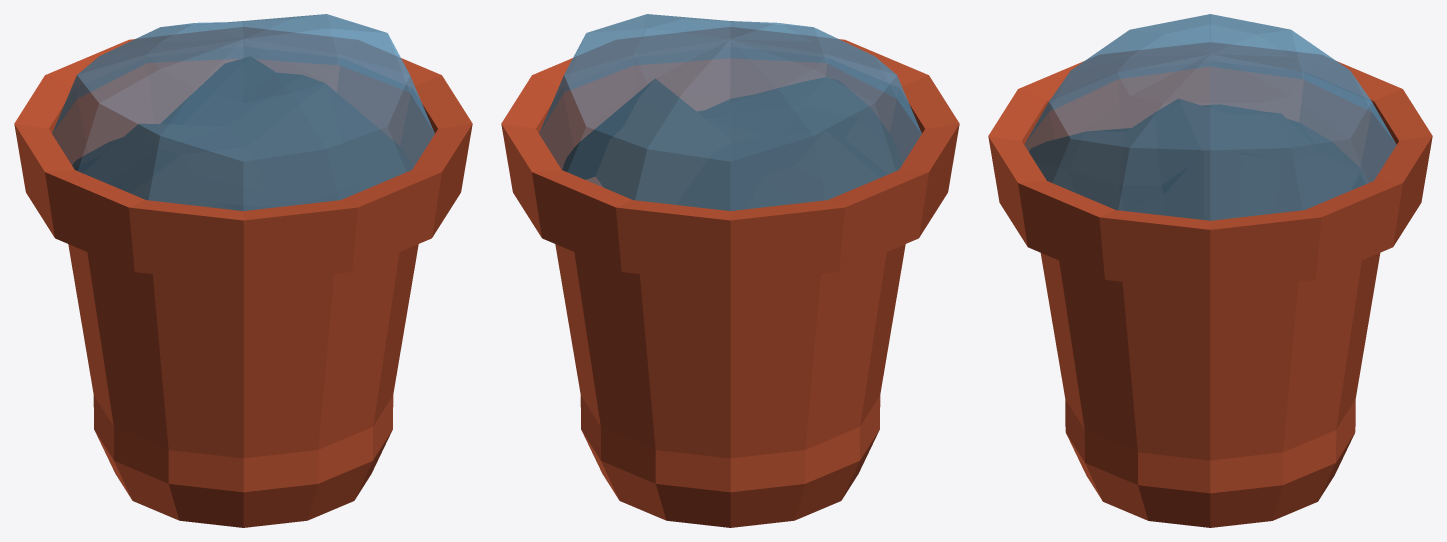
File: LD_Pot.fbx
3 renders of one model, left to right at view 1: azimuth 30°, elevation 25°; view 2: azimuth 150°, elevation 25°; view 3: azimuth 270°, elevation 25°, orthographic. The views are drawn at different scales.
Visible parts, largest first — view 1: Cylinder, Water Blob, Pot Dirt; view 2: Cylinder, Water Blob, Pot Dirt; view 3: Cylinder, Water Blob, Pot Dirt.
Part boxes in pixels (x1,y1,x2,y2): Cylinder: (14, 27, 472, 527); Water Blob: (52, 14, 434, 210); Pot Dirt: (72, 56, 413, 210); Cylinder: (501, 27, 959, 527); Water Blob: (539, 14, 921, 210); Pot Dirt: (562, 77, 902, 210); Cylinder: (988, 42, 1432, 527); Water Blob: (1024, 14, 1396, 220); Pot Dirt: (1029, 99, 1366, 220).
Bounding box in the file's own units: 46.89 × 49.05 × 46.89.
